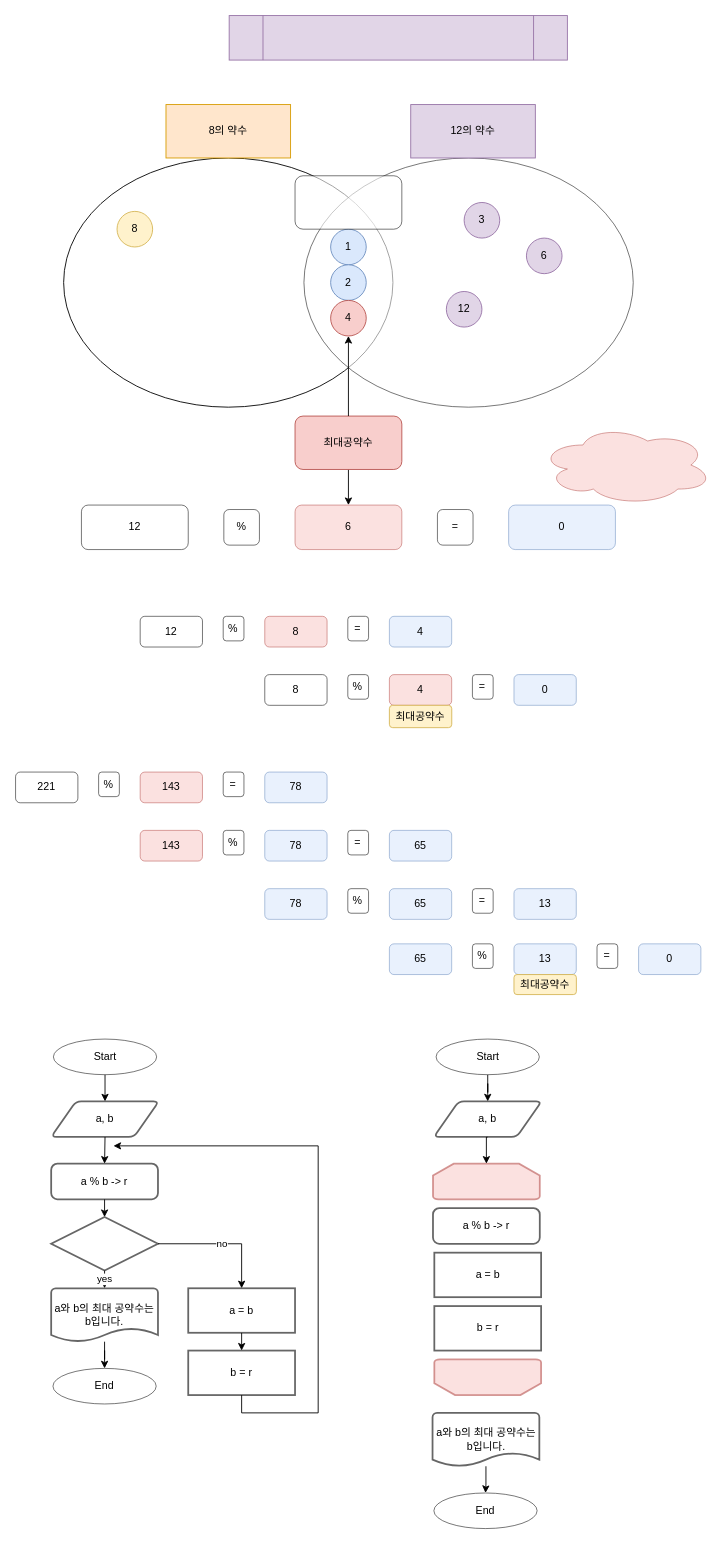
Image size: 728x1544. Some labels were removed from this diagram. Each missing label, with the box of its shape:
Euclidean Algorithms: (228, 15, 567, 60)
r != 0: (432, 1162, 540, 1200)
r = 0: (50, 1216, 158, 1271)
나머지가 없이 딱 나누어 떨어지면 그 나누는데 사용된 수가 바로 최대 공약수이다.: (539, 424, 712, 505)
약수: (294, 175, 402, 229)
